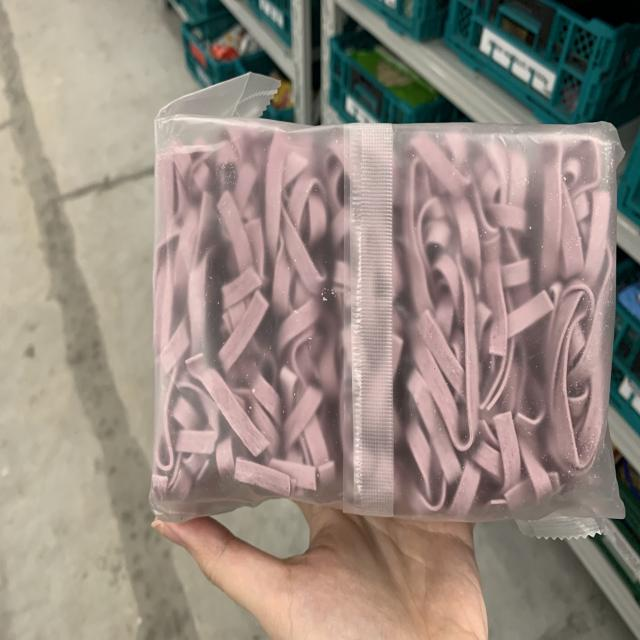object_name: (161, 132, 610, 507)
